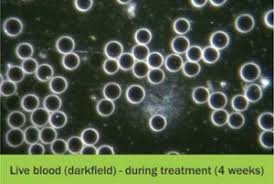Malaria: (53, 35, 82, 71), (236, 61, 263, 83), (170, 14, 192, 38), (2, 16, 23, 38), (94, 97, 115, 119), (233, 13, 255, 34), (124, 84, 146, 104), (164, 54, 184, 74), (147, 114, 169, 132), (104, 39, 123, 59), (210, 30, 229, 49), (80, 128, 100, 146), (101, 83, 122, 100), (171, 35, 189, 54), (102, 58, 119, 78), (50, 111, 67, 130), (210, 91, 227, 110), (210, 110, 229, 127), (118, 54, 134, 74), (43, 95, 61, 112), (134, 28, 151, 46), (146, 52, 163, 70), (192, 86, 209, 104), (15, 43, 34, 59), (202, 46, 218, 65), (7, 66, 24, 83), (183, 61, 200, 78), (133, 61, 149, 79), (132, 44, 149, 60), (149, 69, 165, 85), (1, 81, 17, 96), (187, 44, 202, 60), (21, 60, 37, 74), (72, 1, 92, 12)
